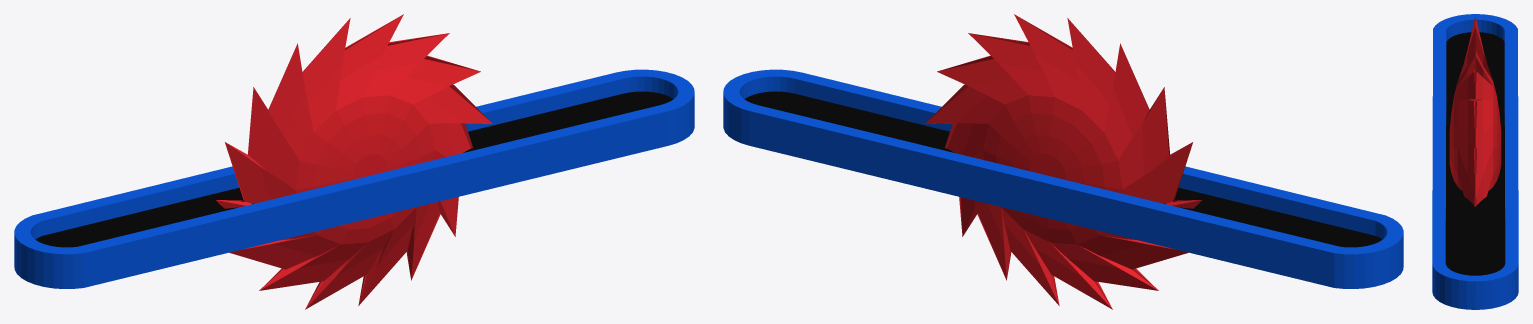
File: saw.fbx
3 views of the same model, side by side, from view 1: azimuth 30°, elevation 25°; view 2: azimuth 150°, elevation 25°; view 3: azimuth 270°, elevation 25° (orthographic). The views are drawn at different scales.
Parts seen in each view (by area): view 1: Circle.001, Circle; view 2: Circle.001, Circle; view 3: Circle.001, Circle.
Part boxes in pixels (x1=…): Circle.001: x1=14, y1=69, x2=694, y2=288; Circle: x1=216, y1=14, x2=492, y2=309; Circle.001: x1=723, y1=69, x2=1403, y2=288; Circle: x1=925, y1=14, x2=1201, y2=309; Circle.001: x1=1432, y1=14, x2=1518, y2=309; Circle: x1=1449, y1=16, x2=1501, y2=206.
Bounding box in the file's own units: 602 × 251 × 82.36.
